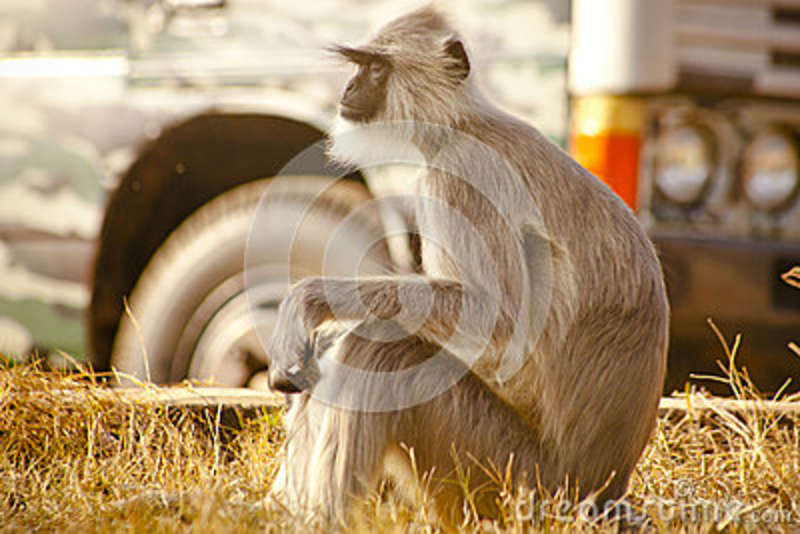monkey: (289, 20, 672, 507)
